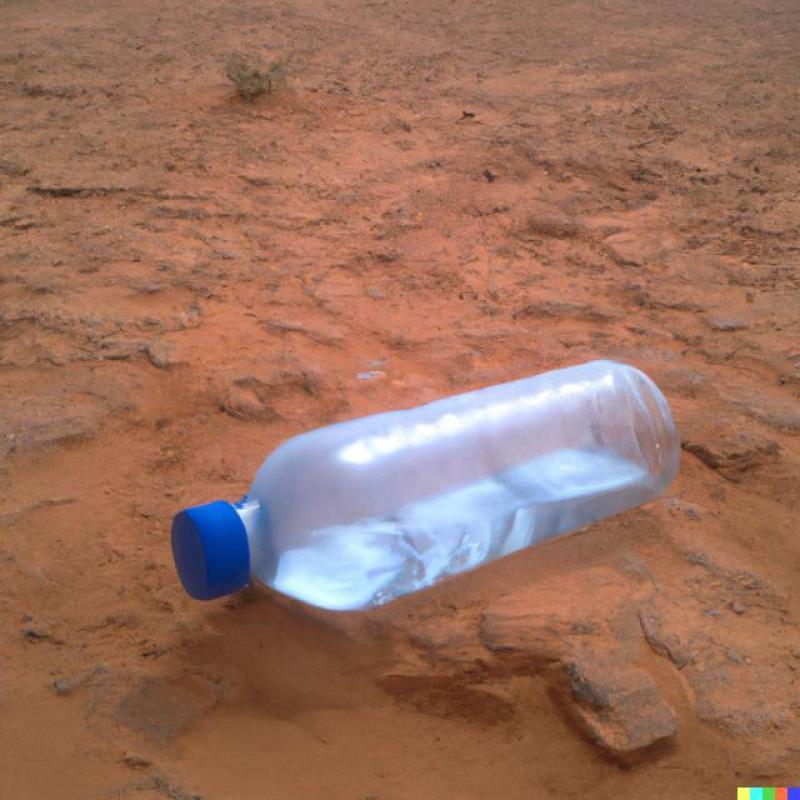botella: (172, 356, 678, 616)
